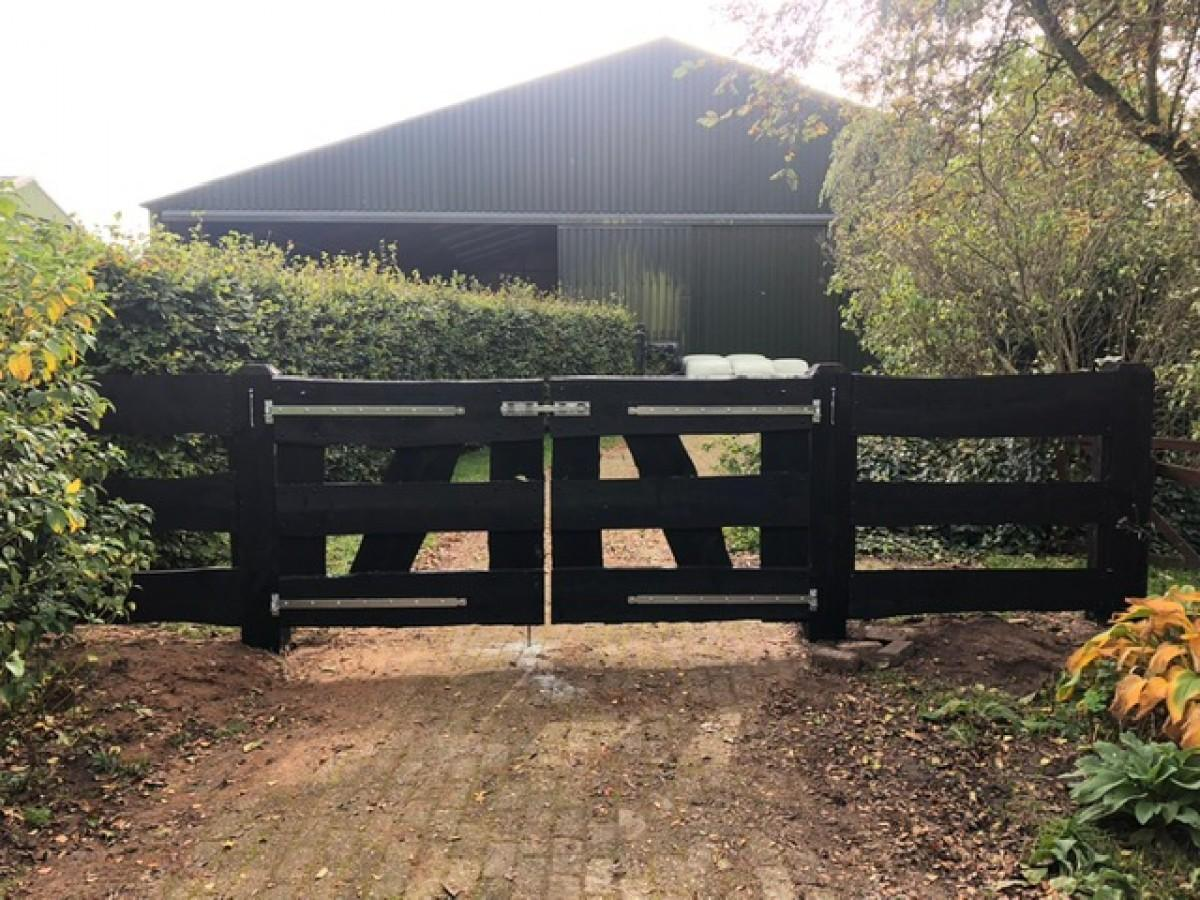obstacle: (124, 262, 1200, 779)
